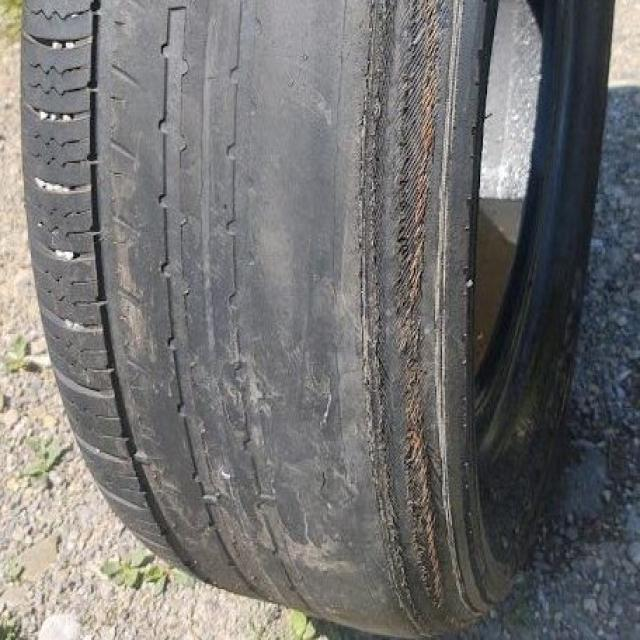Flat spots: (138, 9, 425, 589)
Non-defective: (22, 2, 114, 413)
